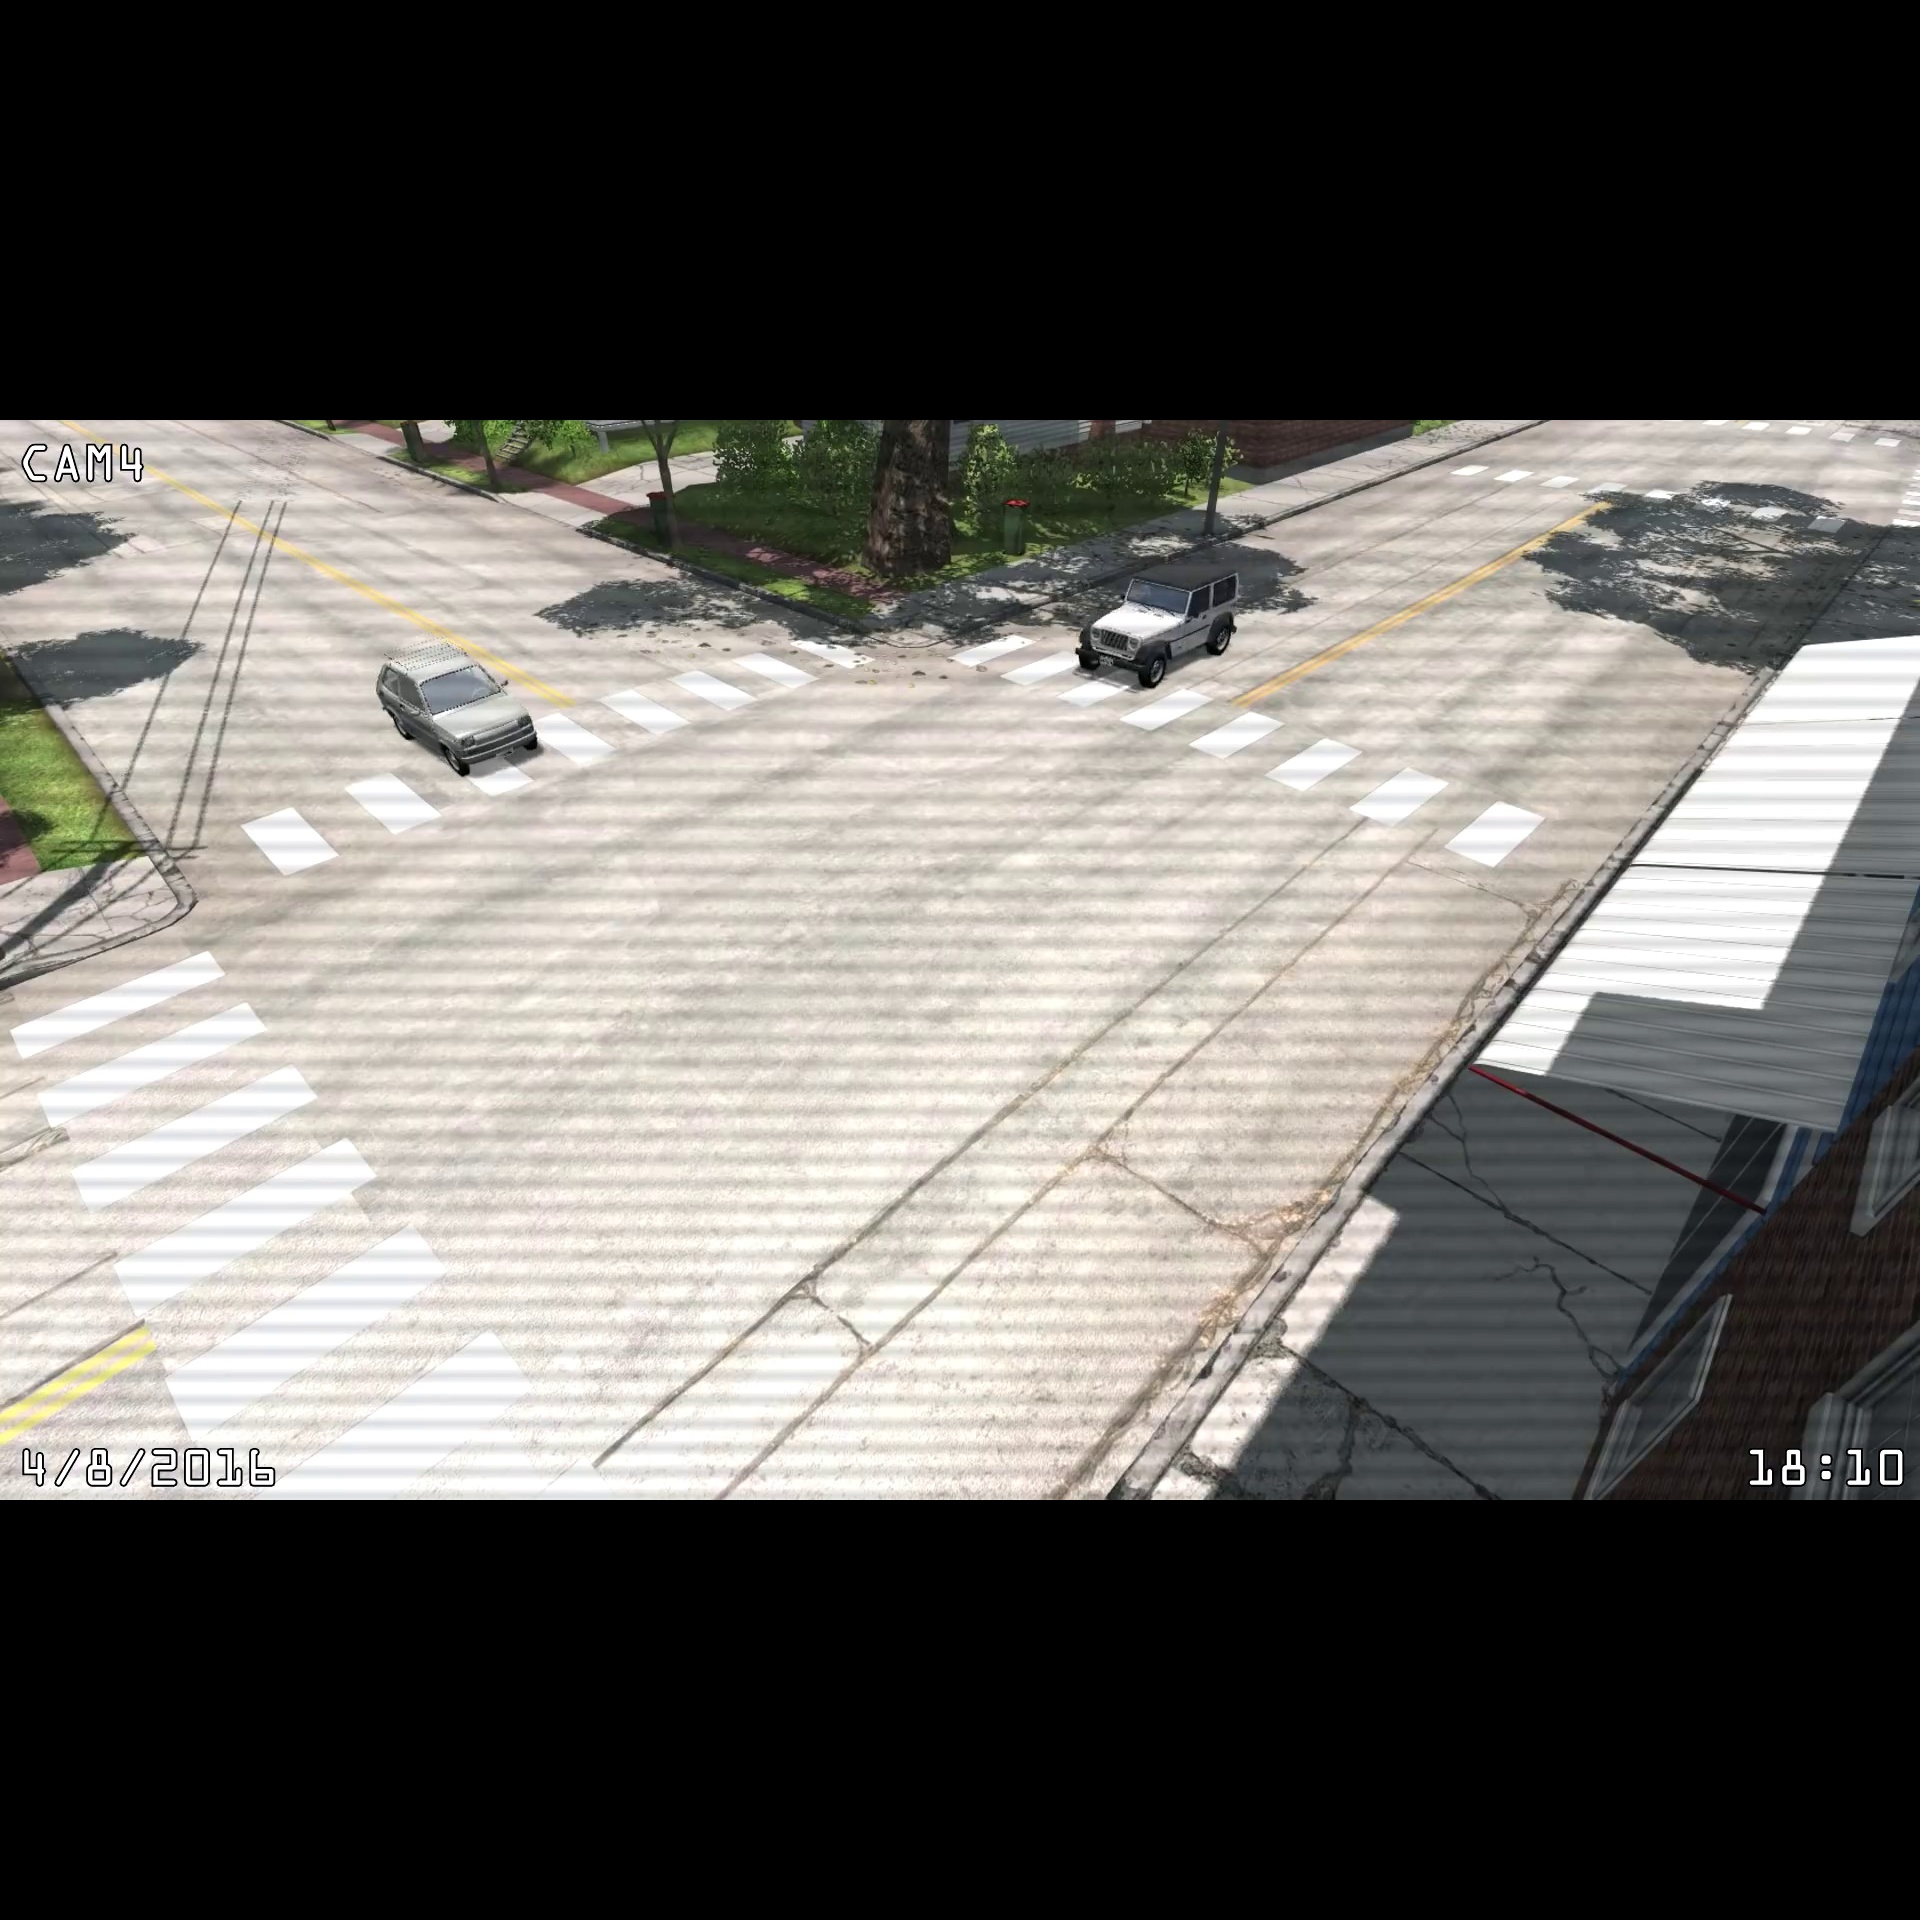vehicle: (1073, 547, 1248, 698), (369, 636, 549, 781)
